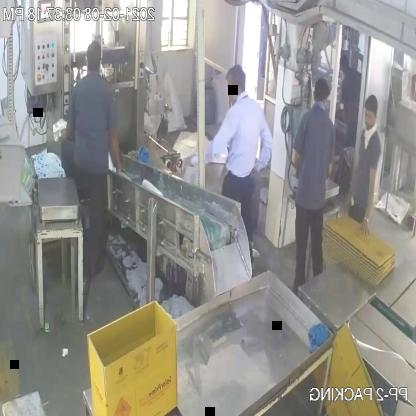no_glove: (353, 150, 384, 245), (104, 122, 120, 174)
